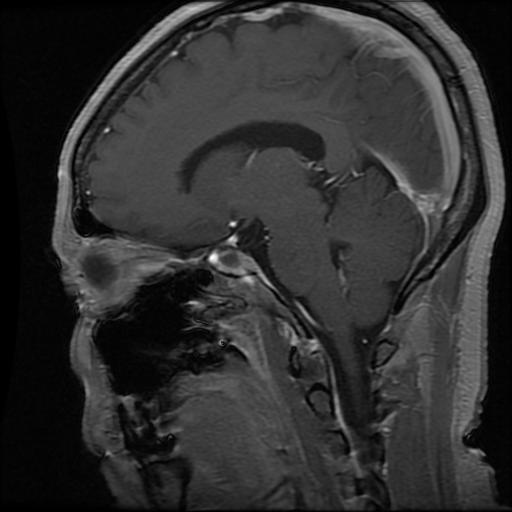Pituirity_tumour: (208, 248, 254, 272)
